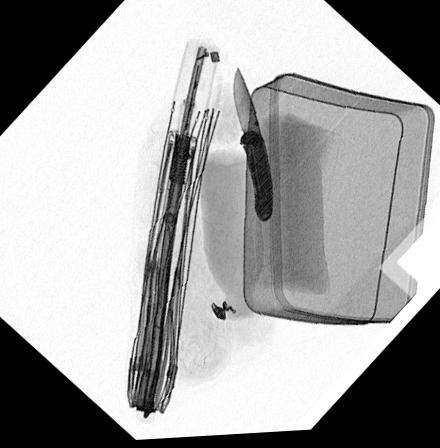Knife: (232, 68, 275, 227)
